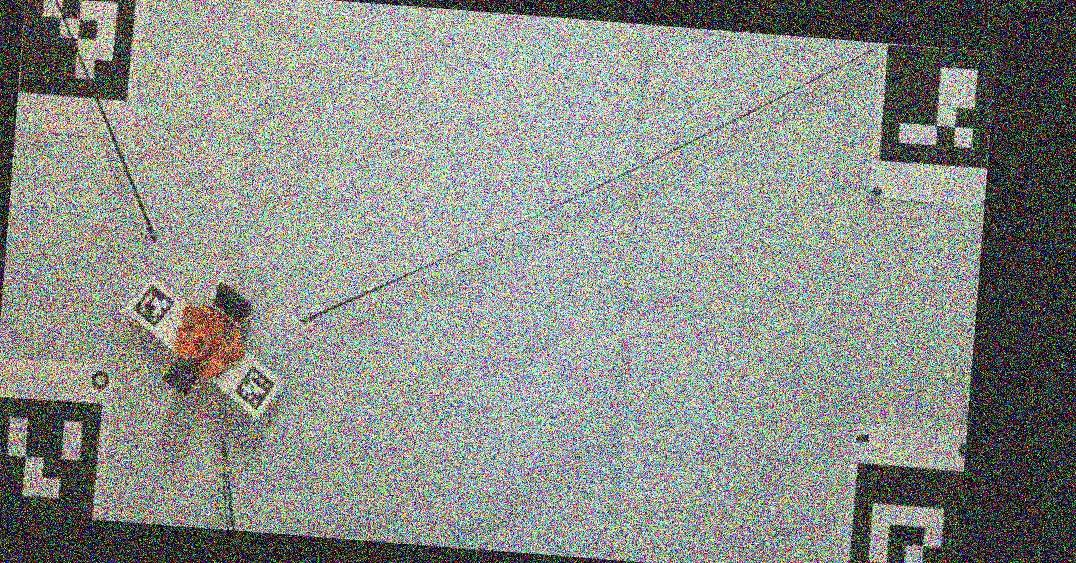robot: (166, 285, 250, 397)
